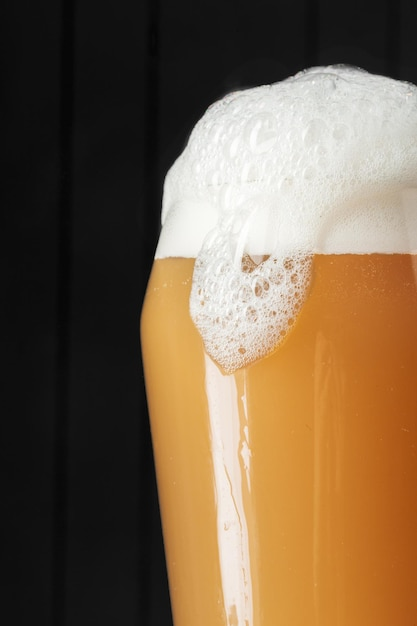alcohol: (136, 65, 417, 626)
